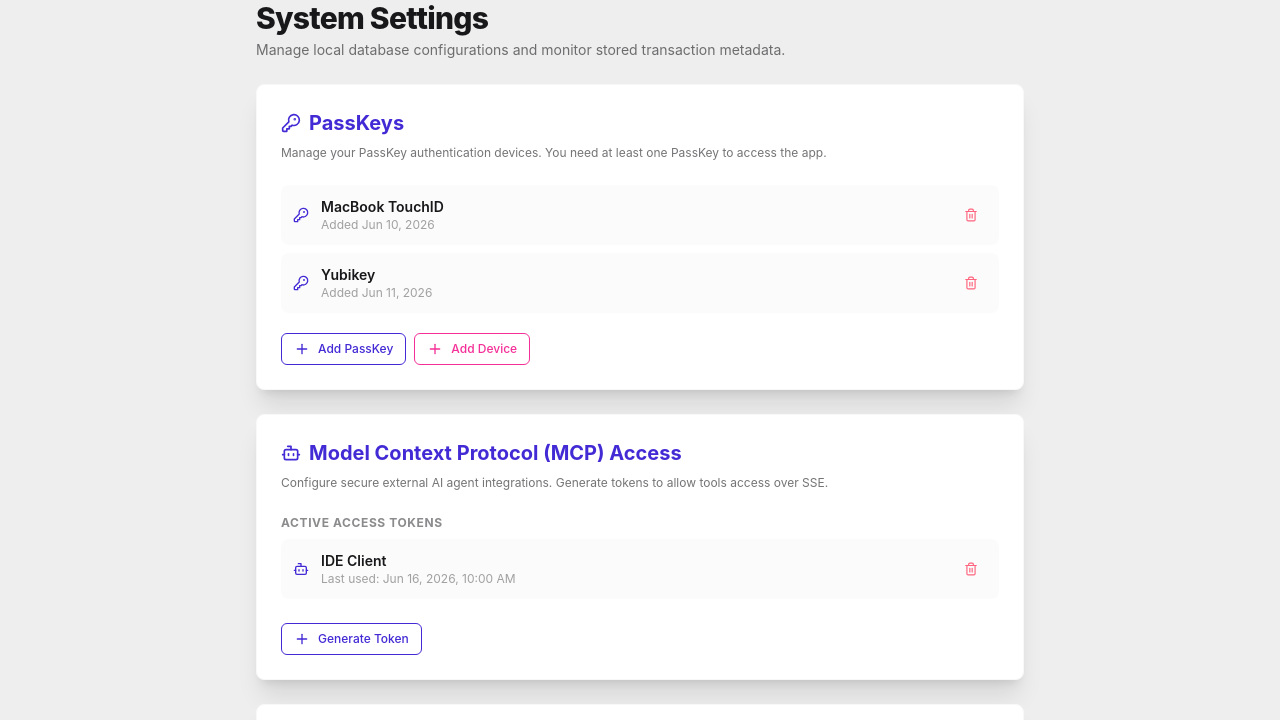
Test: PassKeySection API & interactive behaviors › closes delete modal on Escape key
The image size is (1280, 720).
Click the button named "Remove PassKey - Yubikey" at (971, 283), box [955, 271, 987, 295]
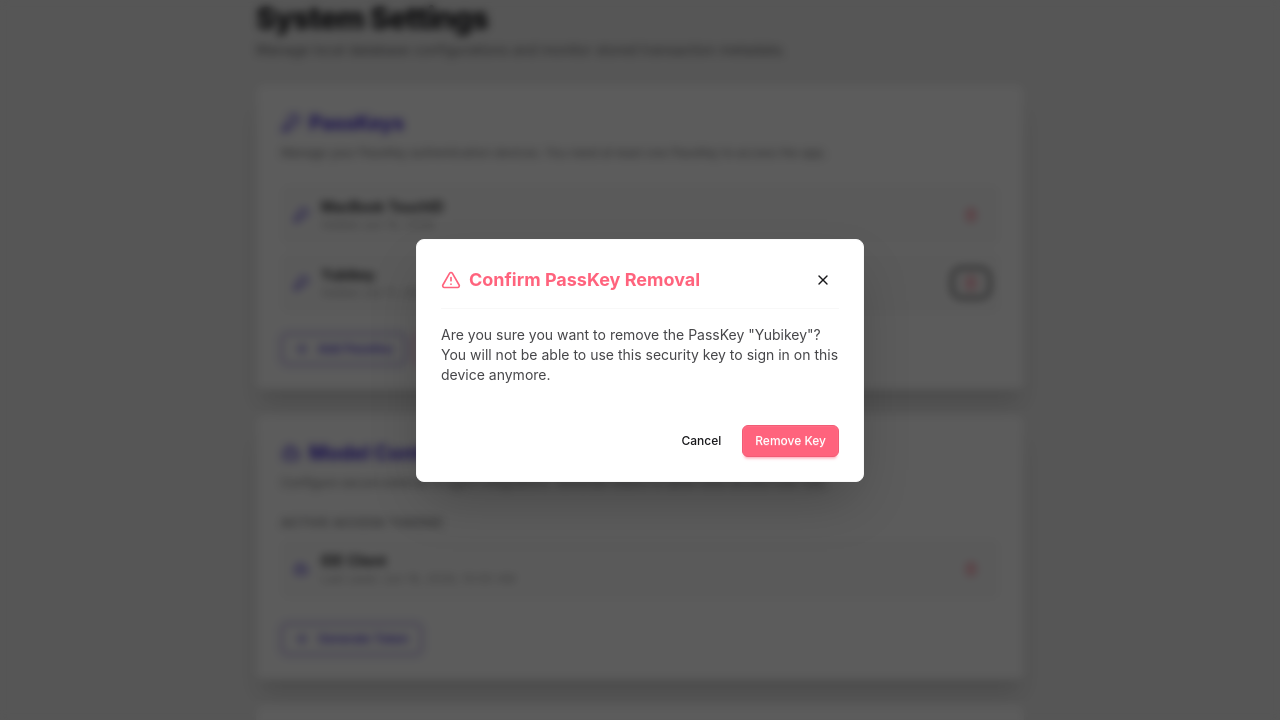
Check: the heading "Confirm PassKey Removal" is shown, box [441, 266, 700, 294]
Press Escape
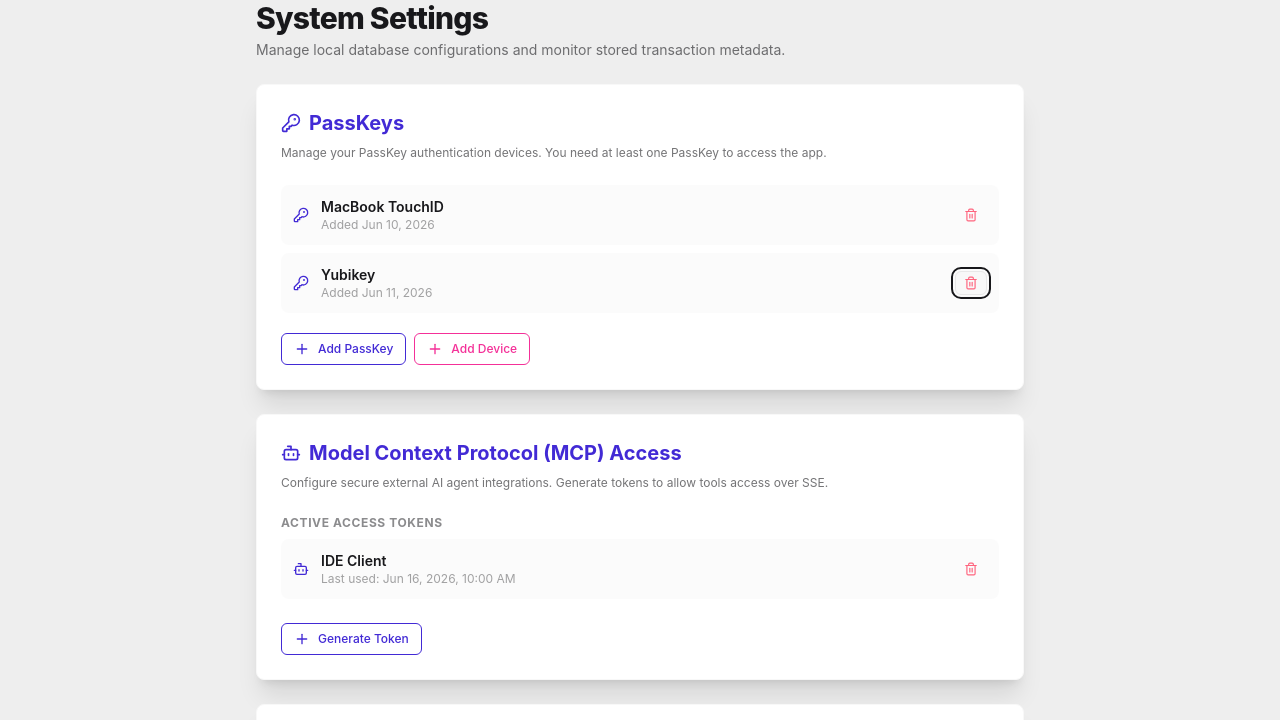
Check: the heading "Confirm PassKey Removal" is gone
